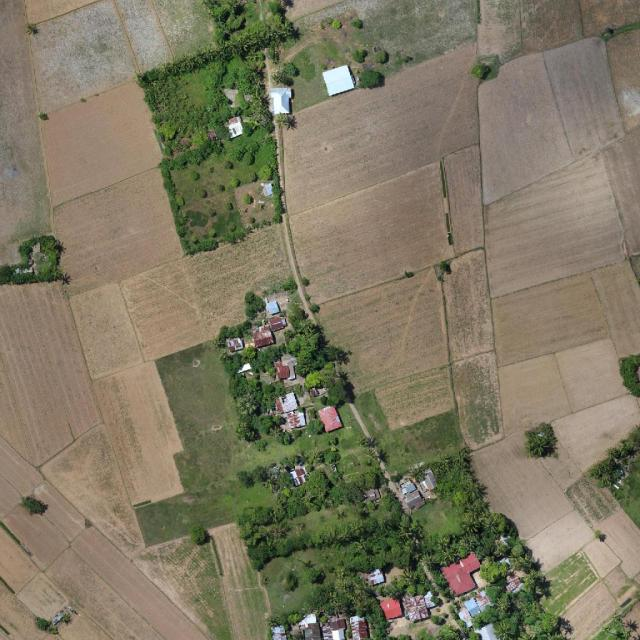agricultural_land: (262, 0, 420, 114), (286, 29, 349, 83)
building: (271, 531, 533, 640), (211, 287, 349, 463), (391, 461, 448, 514), (322, 64, 357, 96), (289, 459, 319, 489), (269, 86, 293, 115), (226, 115, 243, 139)
greenland: (134, 27, 318, 258), (130, 335, 267, 558), (352, 362, 469, 481), (140, 0, 300, 83), (412, 448, 489, 538), (272, 313, 350, 391), (229, 374, 285, 441), (325, 375, 356, 407)
